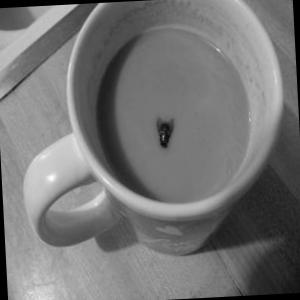coffee: (8, 0, 297, 292)
